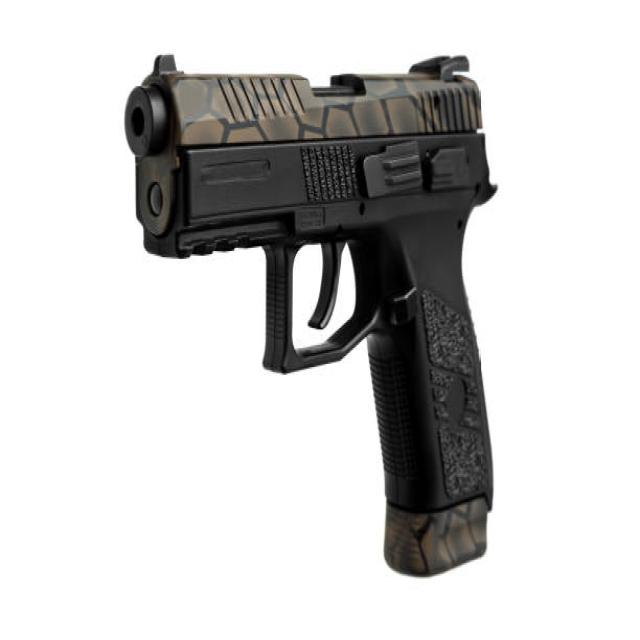pistol: (119, 45, 512, 589)
